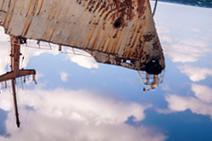rust: (75, 1, 153, 26), (2, 1, 44, 35), (86, 33, 145, 57)
